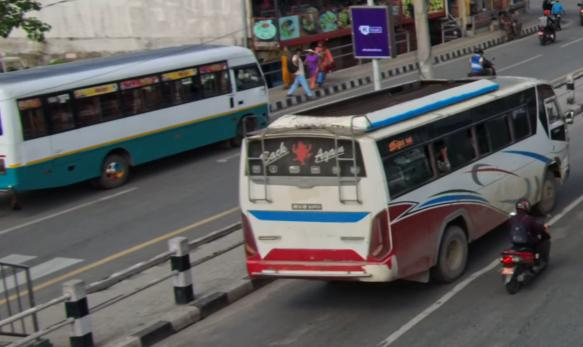bus: (241, 73, 573, 276), (0, 40, 273, 193)
scooter: (499, 219, 554, 292)
